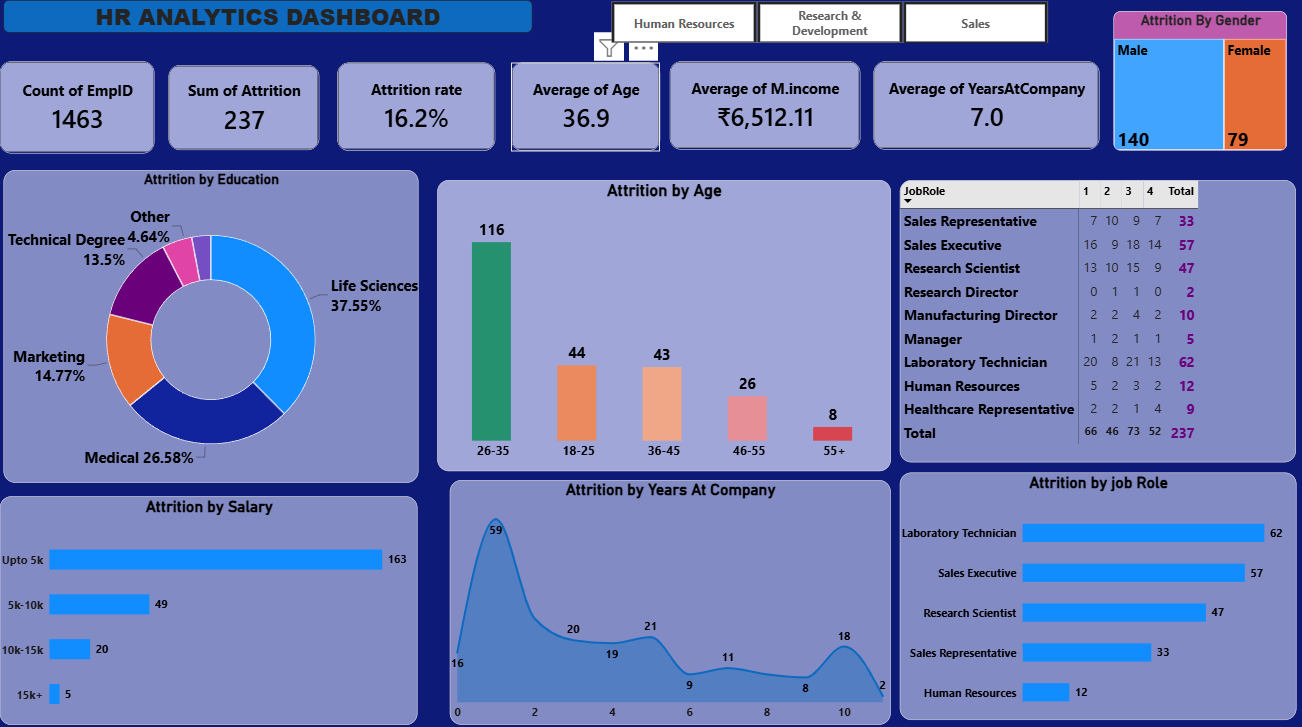

What the dashboard file says about the page in this screenshot:
{"tool":"powerbi","page":{"name":"Page 1","canvas":[1920,1080],"ordinal":0},"visuals":[{"type":"cardVisual","fields":{"Data":["CountNonNull(HR_Analytics.EmpID)"]},"box":[20.6,102.9,224.4,133.9],"z":0},{"type":"cardVisual","fields":{"Data":["Sum(HR_Analytics.Attrition count)"]},"box":[263.5,109.1,218.2,123.5],"z":1000},{"type":"cardVisual","fields":{"Data":["HR_Analytics.Attrition rate"]},"box":[508.4,105,228.5,127.6],"z":2000},{"type":"cardVisual","fields":{"Data":["Avg(HR_Analytics.Age)"]},"box":[759.5,105,216.1,127.6],"z":3000},{"type":"cardVisual","fields":{"Data":["Avg(HR_Analytics.YearsAtCompany)"]},"box":[1284.4,102.9,327.3,127.6],"z":4000},{"type":"donutChart","title":"Attrition by Education","fields":{"Category":["HR_Analytics.EducationField"],"Y":["Sum(HR_Analytics.Attrition count)"]},"box":[24.7,261.4,600.8,452.4],"z":5000},{"type":"columnChart","title":"Attrition by Age","fields":{"Category":["HR_Analytics.AgeGroup"],"Y":["Sum(HR_Analytics.Attrition count)"]},"box":[652.5,275.8,656.6,422],"z":6000},{"type":"pivotTable","fields":{"Columns":["HR_Analytics.JobSatisfaction"],"Rows":["HR_Analytics.JobRole"],"Values":["Sum(HR_Analytics.Attrition count)"]},"box":[1322.9,275.1,573.7,409],"z":7000},{"type":"clusteredBarChart","title":"Attrition by  job Role","fields":{"Category":["HR_Analytics.JobRole"],"Y":["Sum(HR_Analytics.Attrition count)"]},"box":[1323.5,697.8,574.3,358.1],"z":8000},{"type":"barChart","title":"Attrition by Salary","fields":{"Category":["HR_Analytics.SalarySlab"],"Y":["Sum(HR_Analytics.Attrition count)"]},"box":[20.6,732.8,605.1,331.4],"z":9000},{"type":"areaChart","title":"Attrition by Years At Company","fields":{"Category":["HR_Analytics.YearsAtCompany"],"Y":["Sum(HR_Analytics.Attrition count)"]},"box":[671,710.1,638.1,354],"z":10000},{"type":"slicer","fields":{"Values":["HR_Analytics.Department"]},"box":[884.9,14.5,671.4,61.5],"z":11000},{"type":"treemap","title":"Attrition By Gender","fields":{"Group":["HR_Analytics.Gender"],"Values":["Sum(HR_Analytics.Attrition count)"]},"box":[1632.3,30.9,251.1,201.7],"z":12000},{"type":"textbox","box":[24.7,14.4,765.7,47.3],"z":13000},{"type":"cardVisual","fields":{"Data":["Avg(HR_Analytics.AVG of Monthly income)"]},"box":[990.1,102.9,275.8,127.6],"z":14000}]}

Visuals, with their boxes in screenshot pixels (x1, y1, x2, y2), scaled from the page's 1920x1080 canvas onto the 1302x727 screenshot:
cardVisual - CountNonNull(HR_Analytics.EmpID): bbox=(14, 69, 166, 159)
cardVisual - Sum(HR_Analytics.Attrition count): bbox=(179, 73, 327, 157)
cardVisual - HR_Analytics.Attrition rate: bbox=(345, 71, 500, 157)
cardVisual - Avg(HR_Analytics.Age): bbox=(515, 71, 662, 157)
cardVisual - Avg(HR_Analytics.YearsAtCompany): bbox=(871, 69, 1093, 155)
"Attrition by Education" donutChart: bbox=(17, 176, 424, 480)
"Attrition by Age" columnChart: bbox=(442, 186, 888, 470)
pivotTable - HR_Analytics.JobSatisfaction x HR_Analytics.JobRole: bbox=(897, 185, 1286, 461)
"Attrition by  job Role" clusteredBarChart: bbox=(897, 470, 1287, 711)
"Attrition by Salary" barChart: bbox=(14, 493, 424, 716)
"Attrition by Years At Company" areaChart: bbox=(455, 478, 888, 716)
slicer - HR_Analytics.Department: bbox=(600, 10, 1055, 51)
"Attrition By Gender" treemap: bbox=(1107, 21, 1277, 157)
textbox: bbox=(17, 10, 536, 42)
cardVisual - Avg(HR_Analytics.AVG of Monthly income): bbox=(671, 69, 858, 155)
